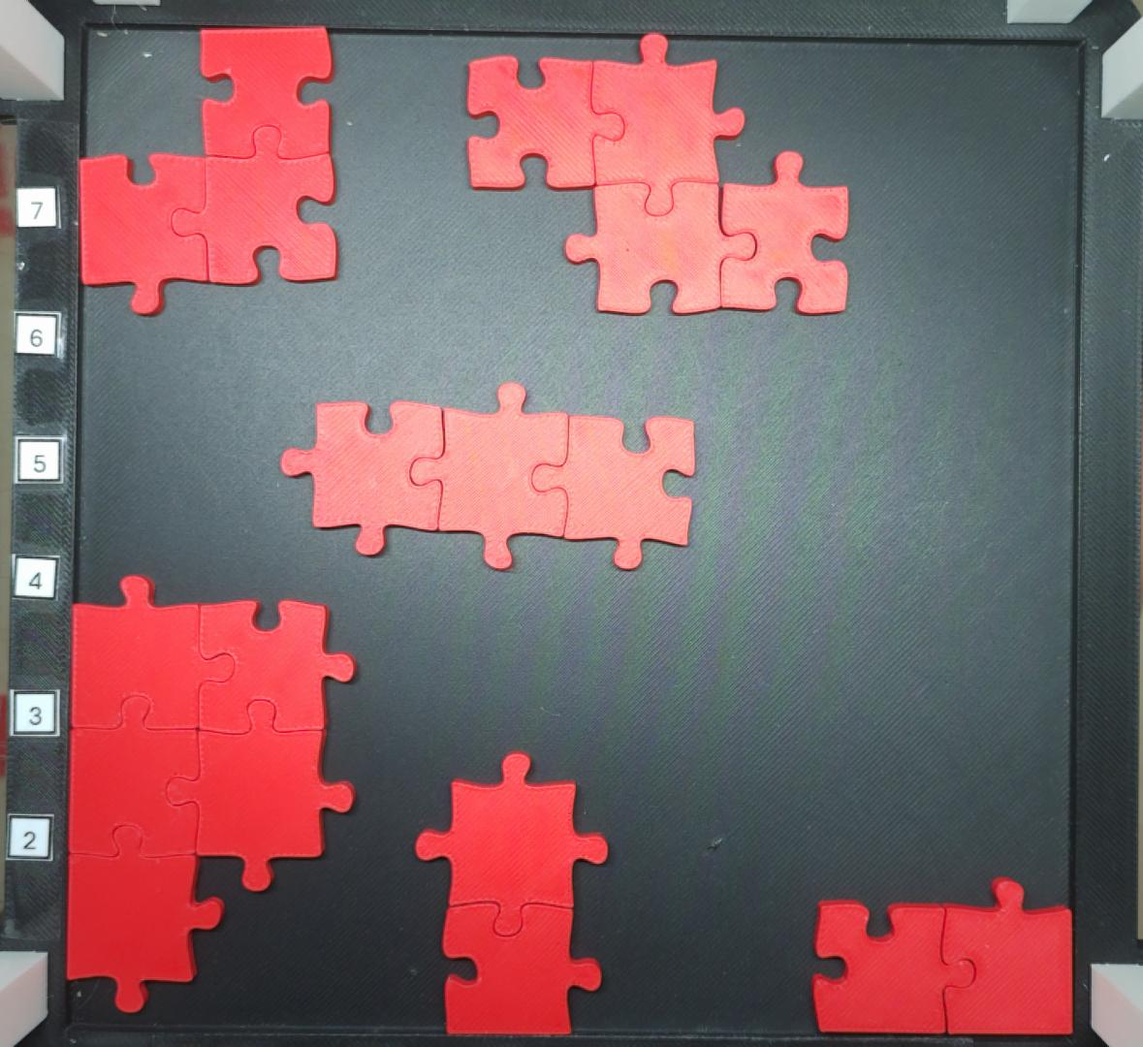p_2: (415, 755, 610, 1031), (811, 877, 1077, 1038)
p_3: (282, 382, 700, 574), (76, 26, 340, 316)
p_4: (464, 31, 852, 322)
p_m: (64, 577, 356, 1012)
